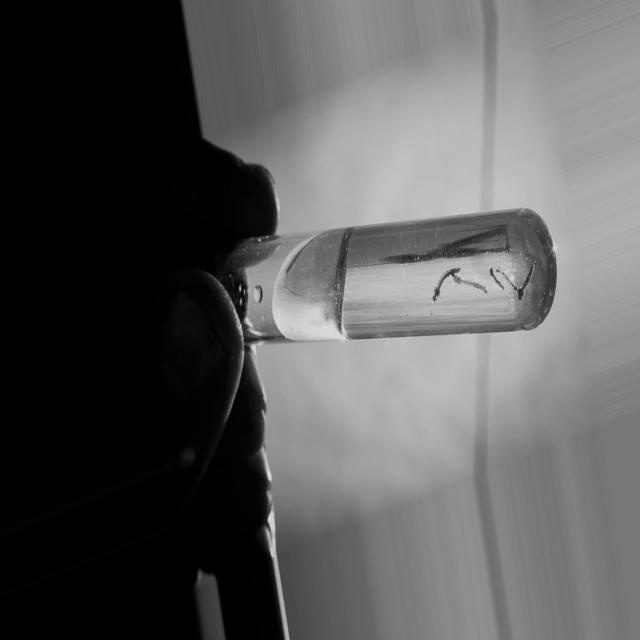larvas: (515, 260, 539, 305), (453, 270, 484, 298), (433, 266, 459, 297), (497, 261, 521, 294), (488, 270, 502, 297)
